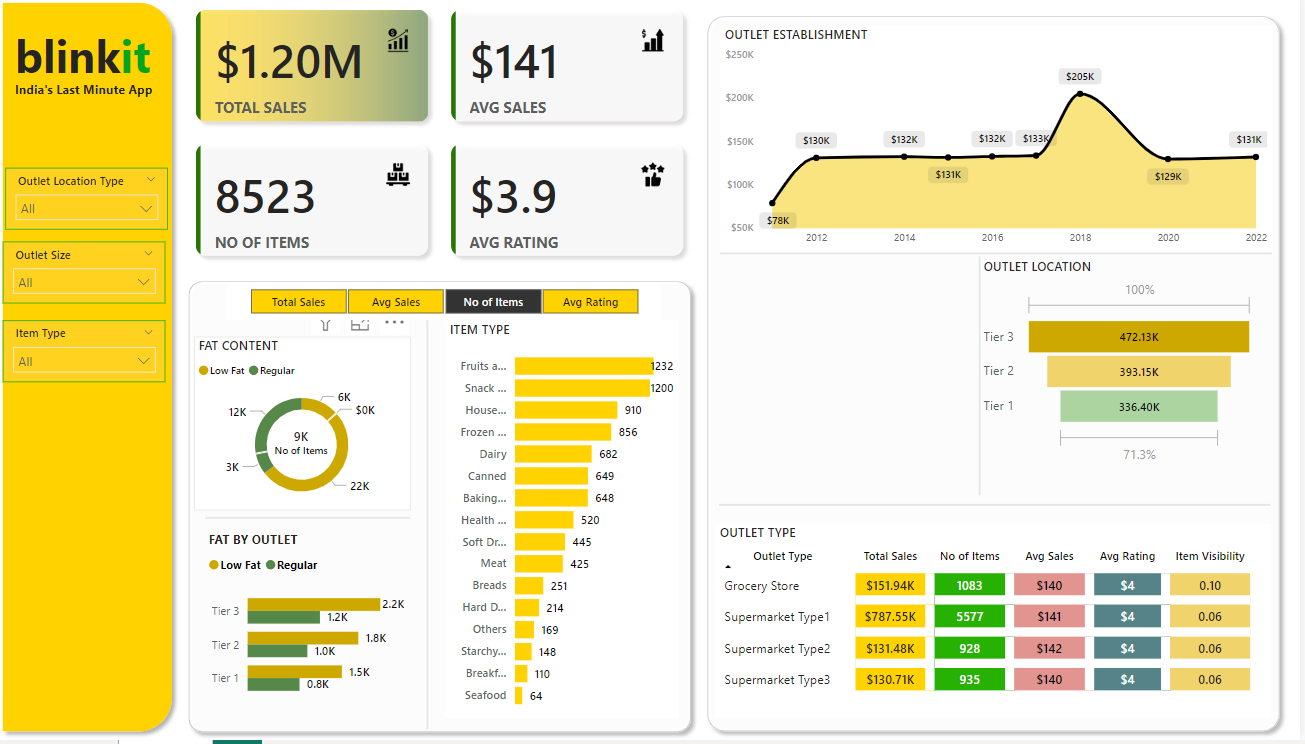

Layout of this report page (visuals, bound fields, positions):
{"tool":"powerbi","page":{"name":"Page 1","canvas":[1400,800],"ordinal":0},"visuals":[{"type":"shape","box":[0,0,200,800],"z":0},{"type":"textbox","box":[17.4,28.2,182.3,75.1],"z":1000},{"type":"textbox","box":[17.4,88.5,166.2,29.5],"z":2000},{"type":"cardVisual","fields":{"Data":["BlinkIT Grocery Data.Total Sales","BlinkIT Grocery Data.Avg Sales","BlinkIT Grocery Data.No of Items","BlinkIT Grocery Data.Avg Rating"]},"box":[200,0,556.7,298.3],"z":3000},{"type":"shape","box":[200,298.3,556.7,501.7],"z":4000},{"type":"donutChart","title":"FAT CONTENT","fields":{"Y":["BlinkIT Grocery Data.No of Items","BlinkIT Grocery Data.Avg Sales","Sum(BlinkIT Grocery Data.Rating)"],"Category":["BlinkIT Grocery Data.Item Fat Content"]},"box":[214.3,367.1,231.4,187.1],"z":5000},{"type":"slicer","fields":{"Values":["Metrics.Metrics"]},"box":[250,310,465.7,40],"z":6000},{"type":"cardVisual","fields":{"Data":["BlinkIT Grocery Data.No of Items"]},"box":[267.1,447.1,125.7,62.9],"z":7000},{"type":"clusteredBarChart","title":"FAT BY OUTLET","fields":{"Y":["BlinkIT Grocery Data.No of Items"],"Category":["BlinkIT Grocery Data.Outlet Location Type"],"Series":["BlinkIT Grocery Data.Item Fat Content"]},"box":[225.6,575.6,220,193.3],"z":8000},{"type":"shape","box":[226.7,496.7,220,128.9],"z":9000},{"type":"shape","box":[446.7,350,36.7,438.3],"z":10000},{"type":"barChart","title":"ITEM TYPE","fields":{"Y":["BlinkIT Grocery Data.No of Items"],"Category":["BlinkIT Grocery Data.Item Type"]},"box":[483.3,350,250,426.7],"z":11000},{"type":"shape","box":[756.7,15,631.7,785],"z":12000},{"type":"lineChart","title":"OUTLET ESTABLISHMENT","fields":{"Y":["BlinkIT Grocery Data.Total Sales"],"Category":["BlinkIT Grocery Data.Outlet Establishment Year"]},"box":[778.3,33.3,591.7,245],"z":13000},{"type":"shape","box":[778.3,226.7,591.7,103.3],"z":14000},{"type":"shape","box":[1038.8,281.2,36.2,256.2],"z":16000},{"type":"funnel","title":"OUTLET LOCATION","fields":{"Y":["Sum(BlinkIT Grocery Data.Sales)"],"Category":["BlinkIT Grocery Data.Outlet Location Type"]},"box":[1056.7,283.3,300,226.7],"z":17000},{"type":"shape","box":[777.5,496.2,591.2,103.8],"z":18000},{"type":"pivotTable","title":"OUTLET TYPE","fields":{"Rows":["BlinkIT Grocery Data.Outlet Type"],"Values":["BlinkIT Grocery Data.Total Sales","BlinkIT Grocery Data.No of Items","BlinkIT Grocery Data.Avg Sales","BlinkIT Grocery Data.Avg Rating","Avg(BlinkIT Grocery Data.Item Visibility)"]},"box":[773.8,568.8,596.2,207.5],"z":19000},{"type":"slicer","fields":{"Values":["BlinkIT Grocery Data.Outlet Location Type"]},"box":[12.2,186.7,174.4,66.7],"z":20000},{"type":"slicer","fields":{"Values":["BlinkIT Grocery Data.Outlet Size"]},"box":[10,265.6,174.4,66.7],"z":20001},{"type":"slicer","fields":{"Values":["BlinkIT Grocery Data.Item Type"]},"box":[10,350,174.4,66.7],"z":20002}]}

Visuals, with their boxes in screenshot pixels (x1, y1, x2, y2), scaled from the page's 1400x800 canvas onto the 1305x744 screenshot:
shape: 0:0:186:743
textbox: 16:26:186:96
textbox: 16:82:171:110
cardVisual - BlinkIT Grocery Data.Total Sales x BlinkIT Grocery Data.Avg Sales: 186:0:705:277
shape: 186:277:705:743
"FAT CONTENT" donutChart: 200:341:415:515
slicer - Metrics.Metrics: 233:288:667:326
cardVisual - BlinkIT Grocery Data.No of Items: 249:416:366:474
"FAT BY OUTLET" clusteredBarChart: 210:535:415:715
shape: 211:462:416:582
shape: 416:326:451:733
"ITEM TYPE" barChart: 451:326:684:722
shape: 705:14:1294:743
"OUTLET ESTABLISHMENT" lineChart: 725:31:1277:259
shape: 725:211:1277:307
shape: 968:262:1002:500
"OUTLET LOCATION" funnel: 985:263:1265:474
shape: 725:461:1276:558
"OUTLET TYPE" pivotTable: 721:529:1277:722
slicer - BlinkIT Grocery Data.Outlet Location Type: 11:174:174:236
slicer - BlinkIT Grocery Data.Outlet Size: 9:247:172:309
slicer - BlinkIT Grocery Data.Item Type: 9:326:172:388
